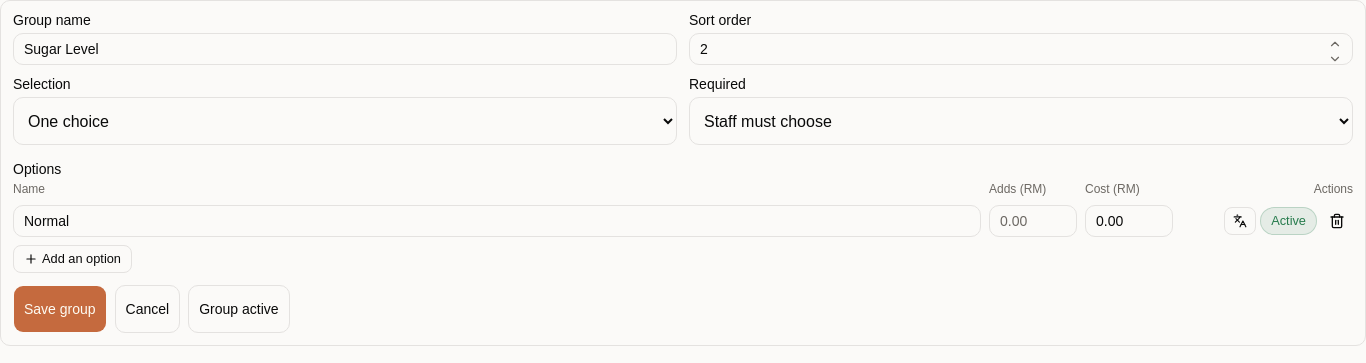
the sort order of a modifier group › adds exactly one
Click the button named "Increase sort order" at (1335, 44), box [1321, 37, 1349, 51]
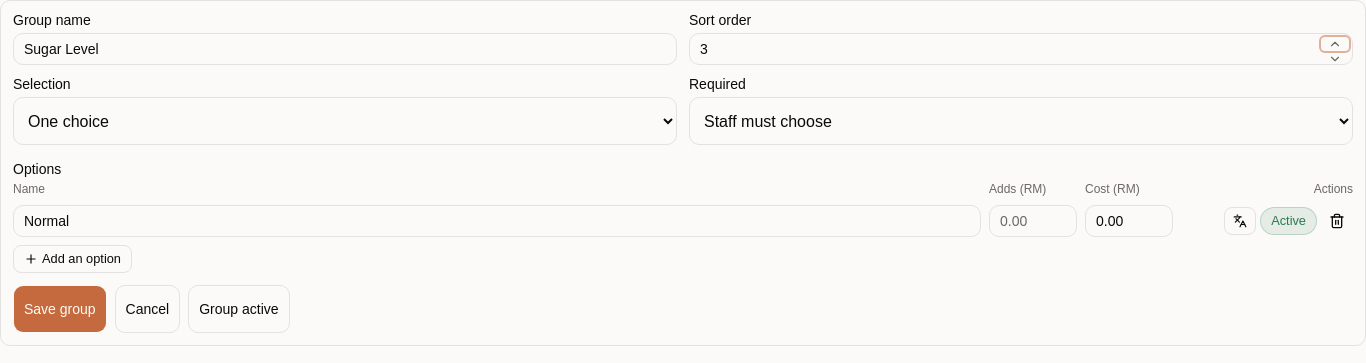
Check: the number field with id "group-sort" holds "3", box [689, 33, 1353, 65]
Click the button named "Increase sort order" at (1335, 44), box [1321, 37, 1349, 51]
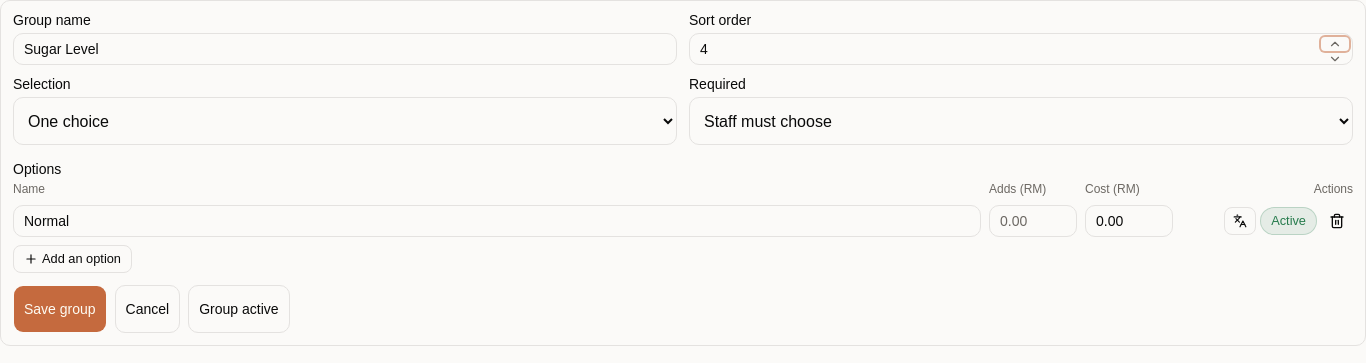
Check: the number field with id "group-sort" holds "4", box [689, 33, 1353, 65]
